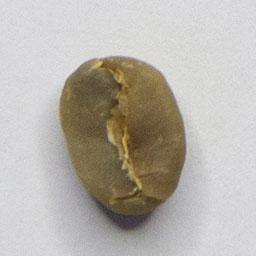premium: (56, 53, 189, 218)
